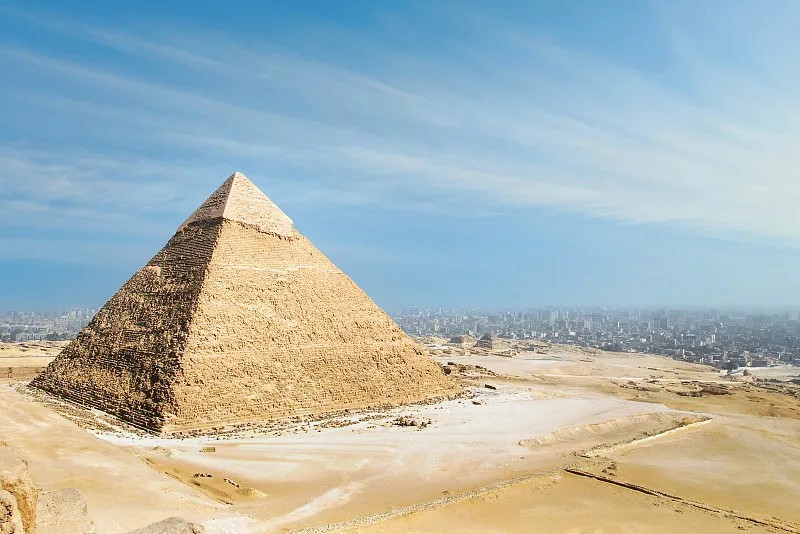Pyramid: (27, 171, 466, 439)
